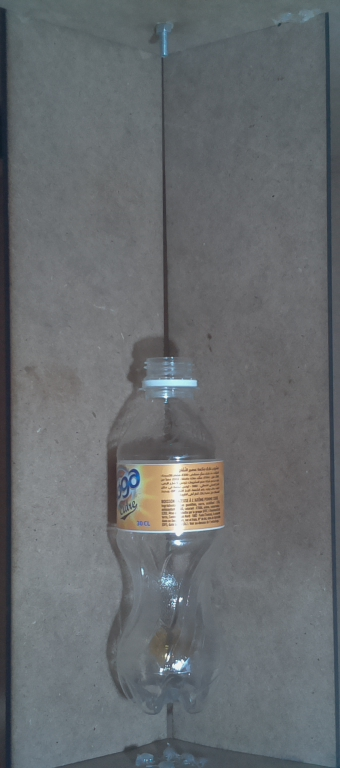Bouteille_0.3L: (101, 351, 230, 719)
